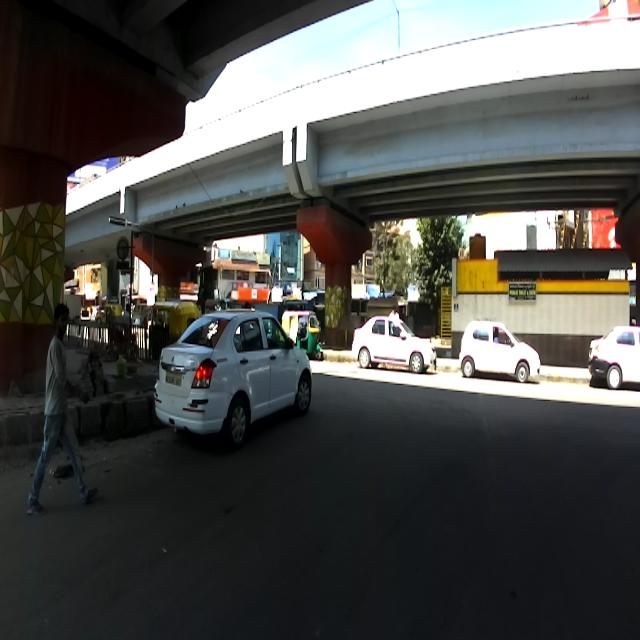car ahead at: (154, 305, 314, 447)
person ahead at: (26, 305, 100, 525)
